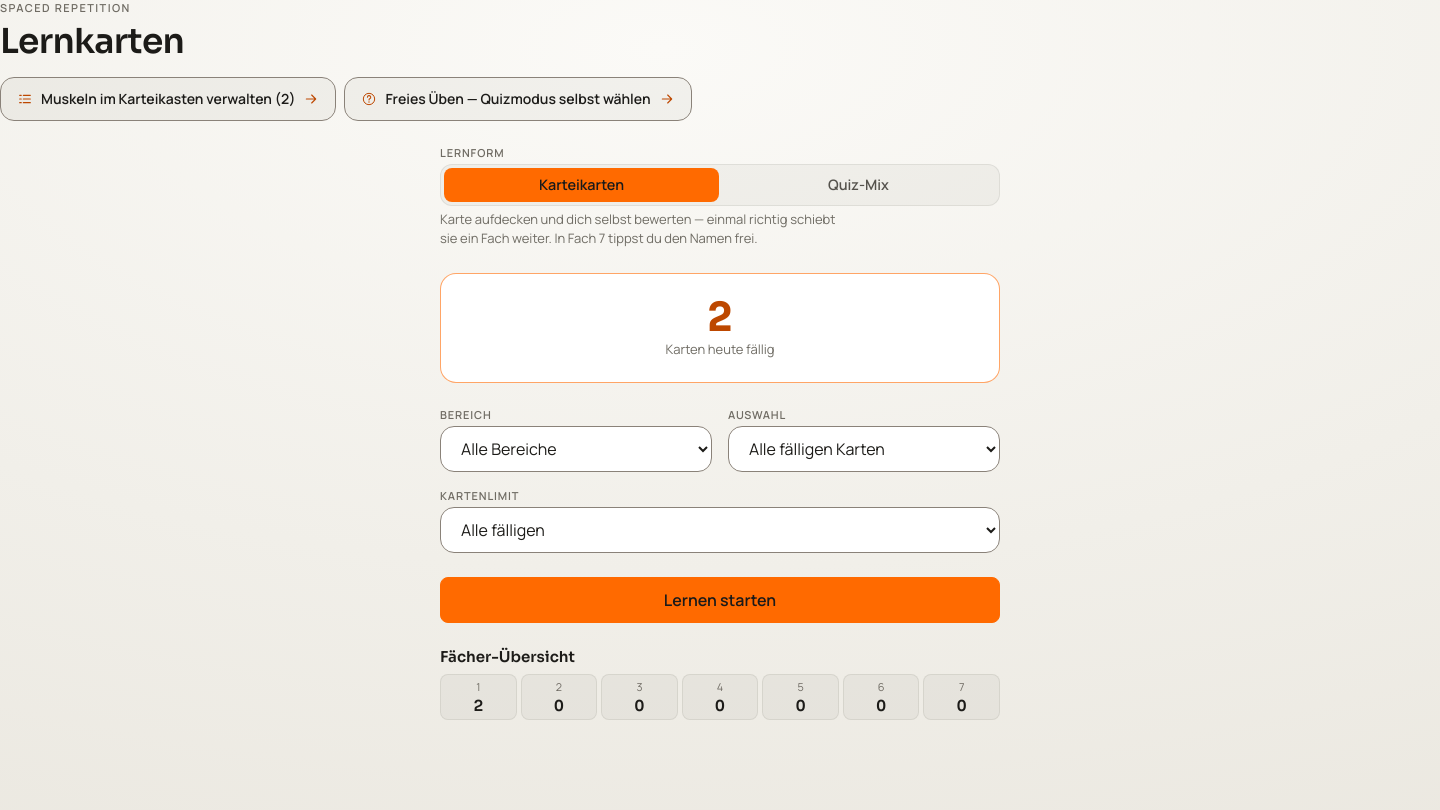
Test: „Unsicher" wird sichtbar zurückgestellt › sagt auf der Karte, was „Unsicher" bewirkt
Click the button "Lernen starten": (720, 600) [440,577,1000,623]
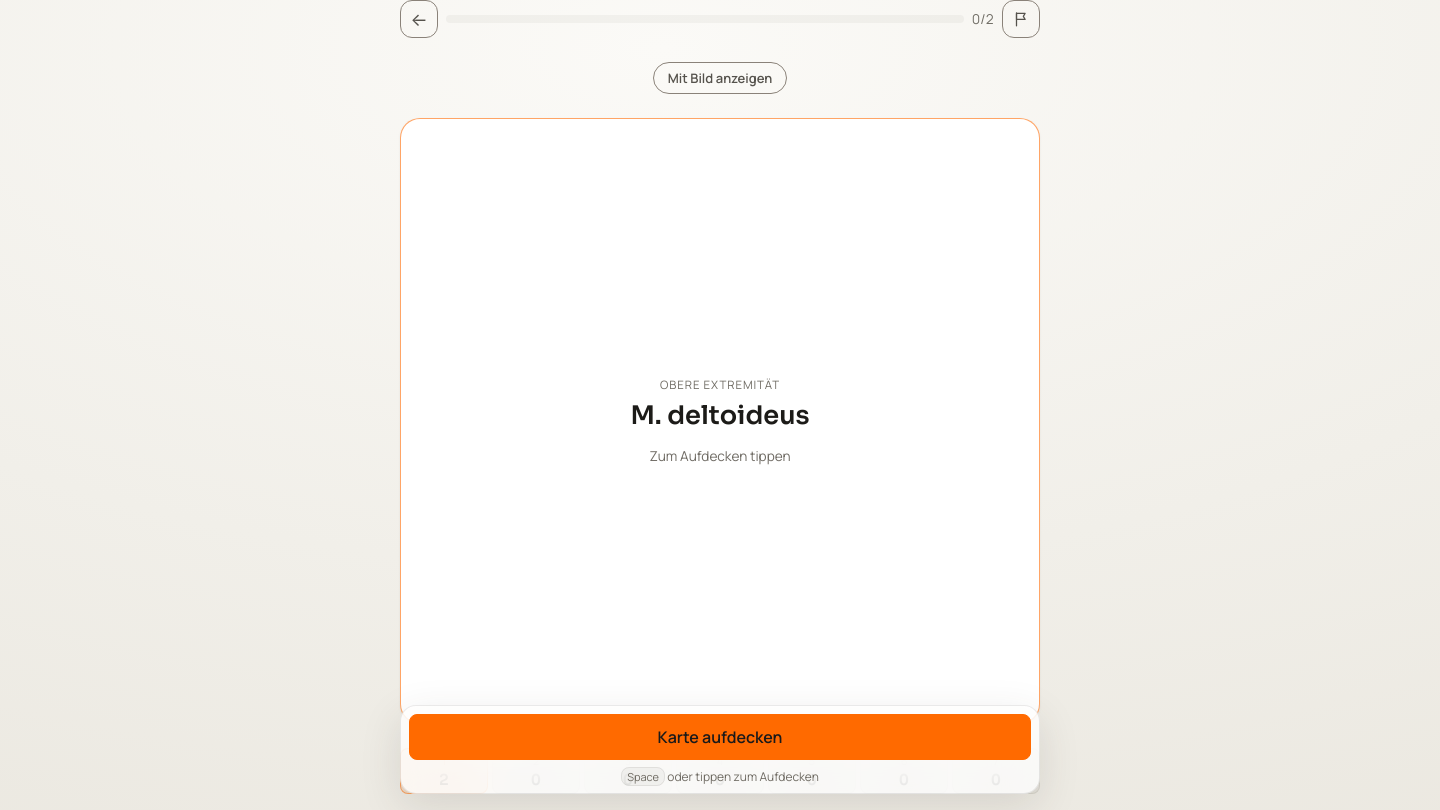
Click the button "Karte aufdecken": (720, 737) [409,714,1031,760]
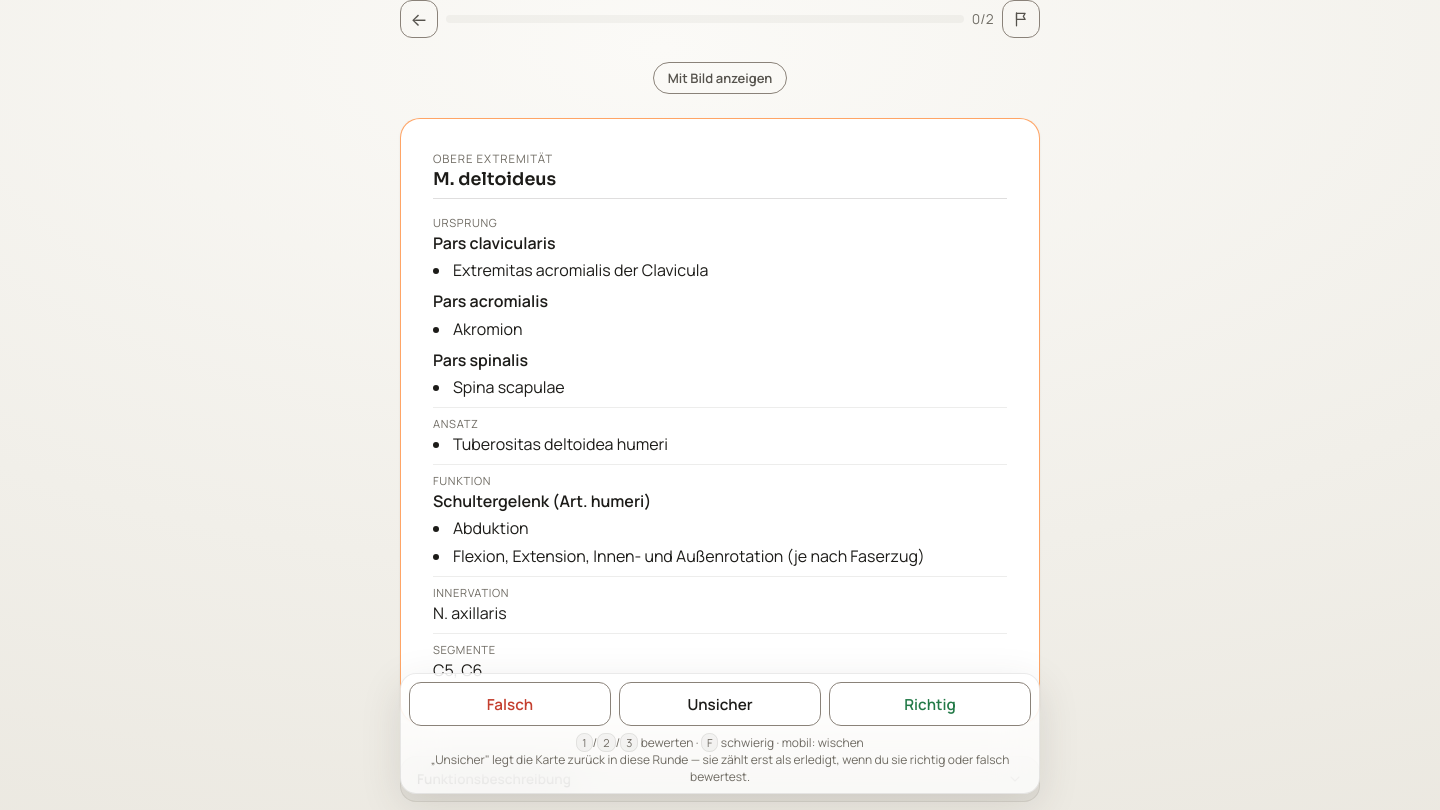
Result: the text "legt die Karte zurück in diese Runde" is shown at [431,751,1009,785]
